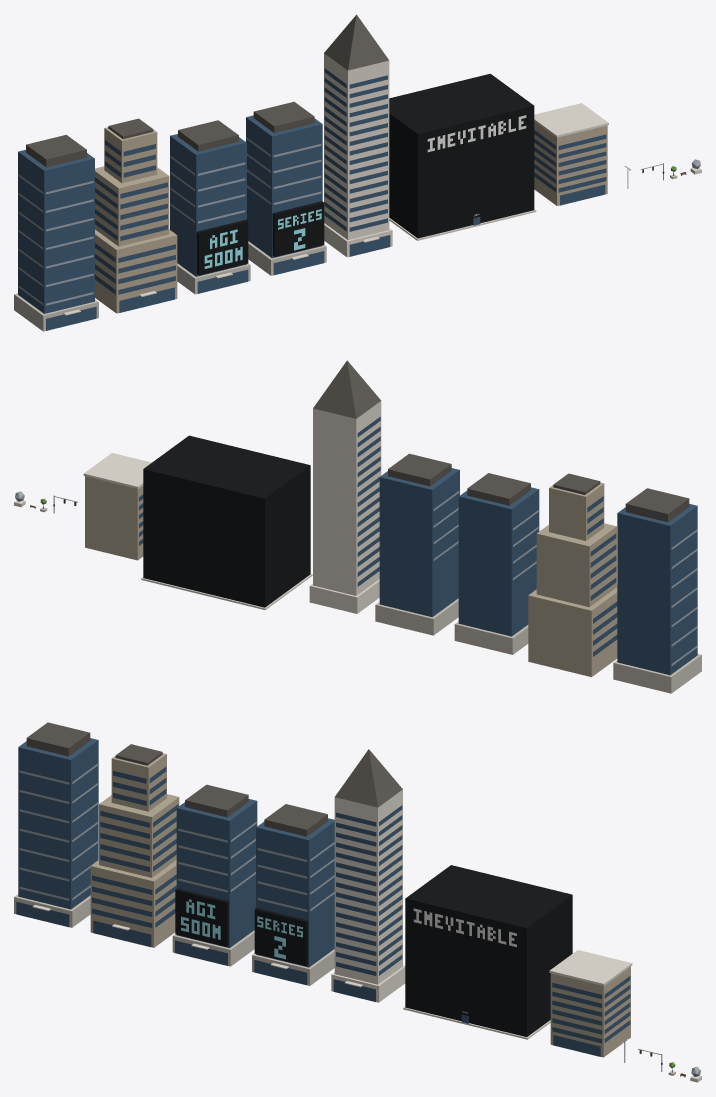
The model's file is sf-downtown.glb.
3 views of the same model, one above another, from view 1: azimuth 30°, elevation 25°; view 2: azimuth 150°, elevation 25°; view 3: azimuth 330°, elevation 25° (orthographic). The views are drawn at different scales.
Visible parts, largest first — view 1: dt_hq_body, dt_tower_crown_body, dt_tower_glass_body, dt_tower_stone_body, dt_tower_screen_series_body, dt_tower_screen_agi_body, dt_midrise_body; view 2: dt_hq_body, dt_tower_glass_body, dt_tower_crown_body, dt_tower_stone_body, dt_tower_screen_series_body, dt_tower_screen_agi_body, dt_midrise_body; view 3: dt_hq_body, dt_tower_crown_body, dt_tower_glass_body, dt_tower_stone_body, dt_tower_screen_agi_body, dt_tower_screen_series_body, dt_midrise_body.
Part boxes in pixels (x1,y1,x2,y2): dt_hq_body: (389,73,536,240); dt_tower_crown_body: (324,14,392,257); dt_tower_glass_body: (14,134,98,331); dt_tower_stone_body: (95,118,177,313); dt_tower_screen_series_body: (246,101,326,275); dt_tower_screen_agi_body: (170,120,250,294); dt_midrise_body: (534,103,608,205); dt_hq_body: (141,435,312,610); dt_tower_glass_body: (613,488,701,693); dt_tower_crown_body: (309,360,381,613); dt_tower_stone_body: (528,473,617,677); dt_tower_screen_series_body: (375,453,459,635); dt_tower_screen_agi_body: (454,473,539,654); dt_midrise_body: (83,453,151,560); dt_hq_body: (403,865,572,1039); dt_tower_crown_body: (331,749,405,1002); dt_tower_glass_body: (14,722,98,927); dt_tower_stone_body: (90,744,179,947); dt_tower_screen_agi_body: (172,784,257,966); dt_tower_screen_series_body: (252,804,334,985); dt_midrise_body: (549,950,632,1057).
Bounding box in the file's own units: 260 × 86 × 32.45.
